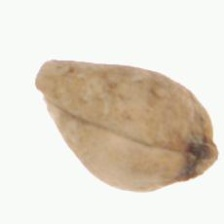L1: (178, 133, 218, 187), (32, 59, 54, 111)
L2: (34, 60, 219, 193)
